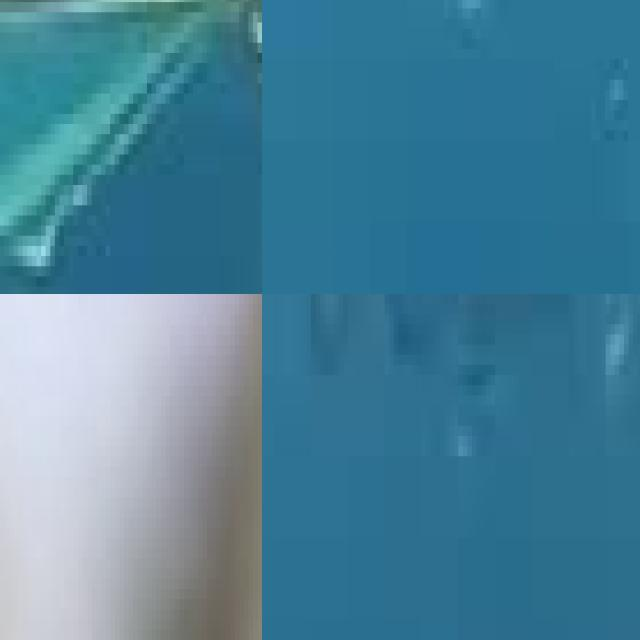fish: (0, 0, 262, 294), (0, 294, 262, 416)
